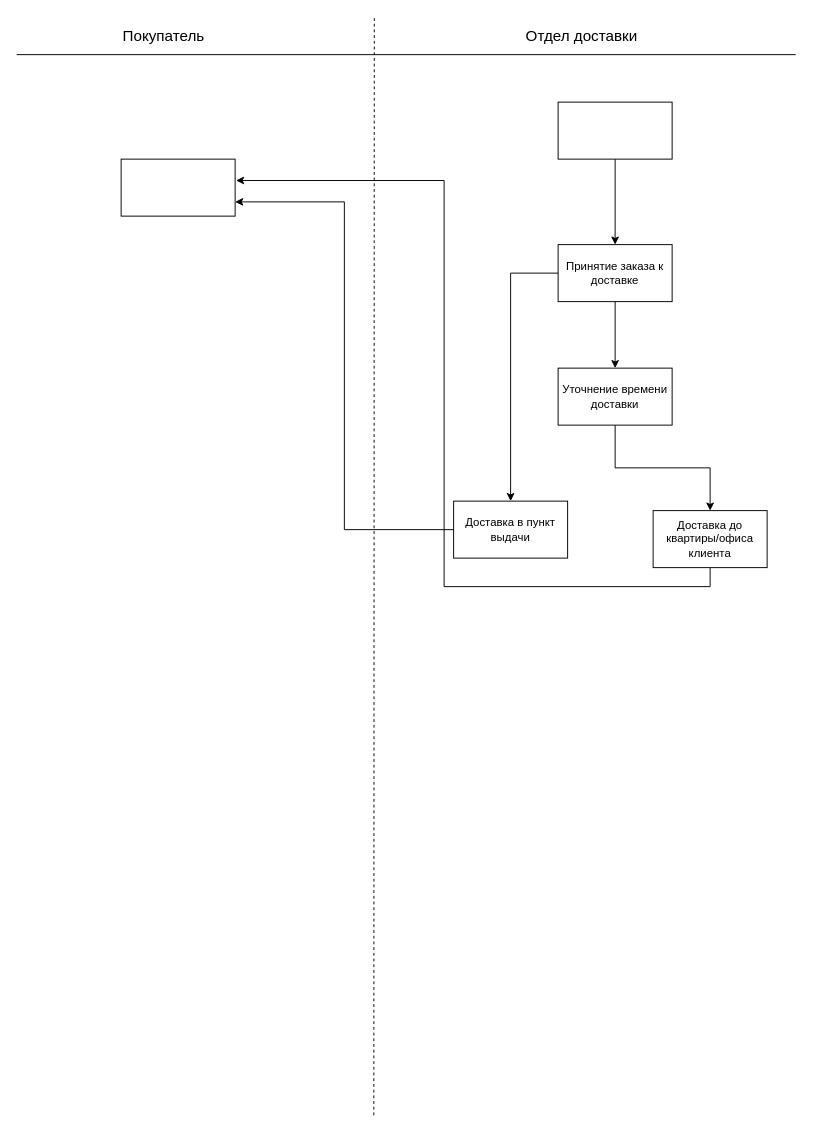
Some shapes in this 813 by 1133 pixel diagram are drawn without their labels. Each missing label, with the centre of its shape:
Получение заказа: point (177, 187)
Получение заявки о доставке: point (614, 130)
